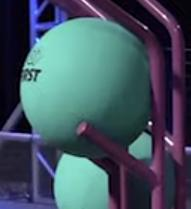algae: (21, 18, 150, 157), (54, 131, 174, 208)
